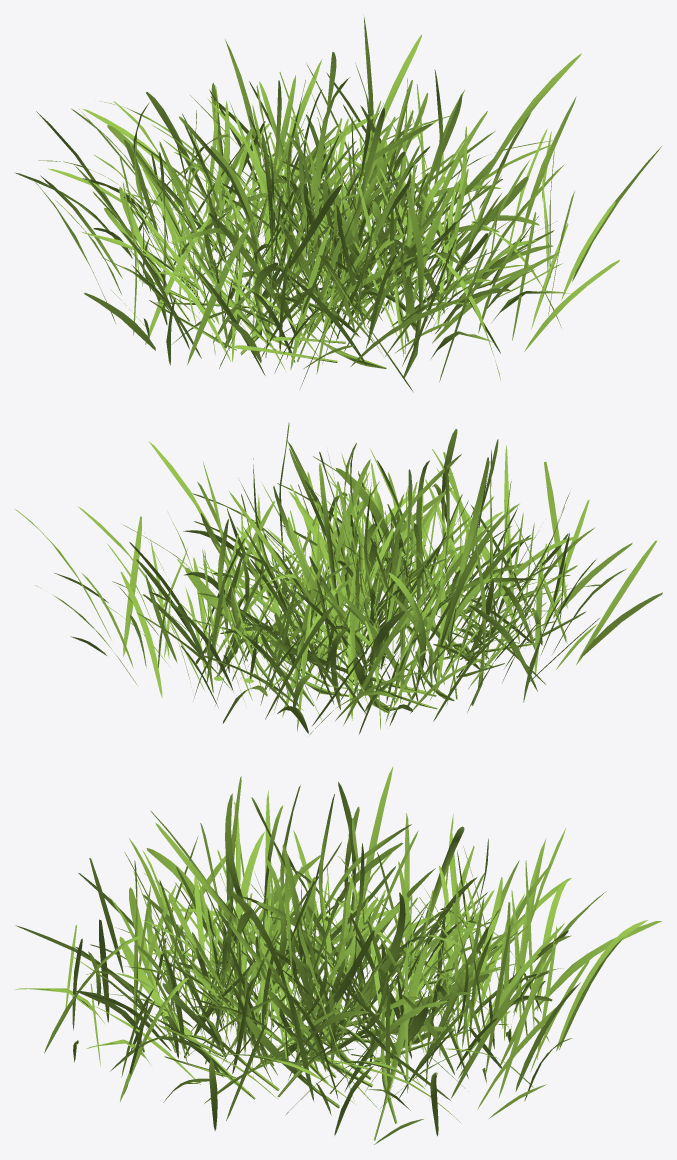
File: Grass 2.fbx
The picture shows the model from 3 angles, top to bottom: view 1: azimuth 30°, elevation 25°; view 2: azimuth 150°, elevation 25°; view 3: azimuth 270°, elevation 25°; orthographic projection. The views are drawn at different scales.
Parts seen in each view (by area): view 1: GS Grass Clump 03; view 2: GS Grass Clump 03; view 3: GS Grass Clump 03.
Part boxes in pixels (x1=…): GS Grass Clump 03: x1=14, y1=17, x2=661, y2=392; GS Grass Clump 03: x1=15, y1=422, x2=662, y2=734; GS Grass Clump 03: x1=15, y1=766, x2=661, y2=1144.
Bounding box in the file's own units: 0.492 × 0.1943 × 0.4643.
